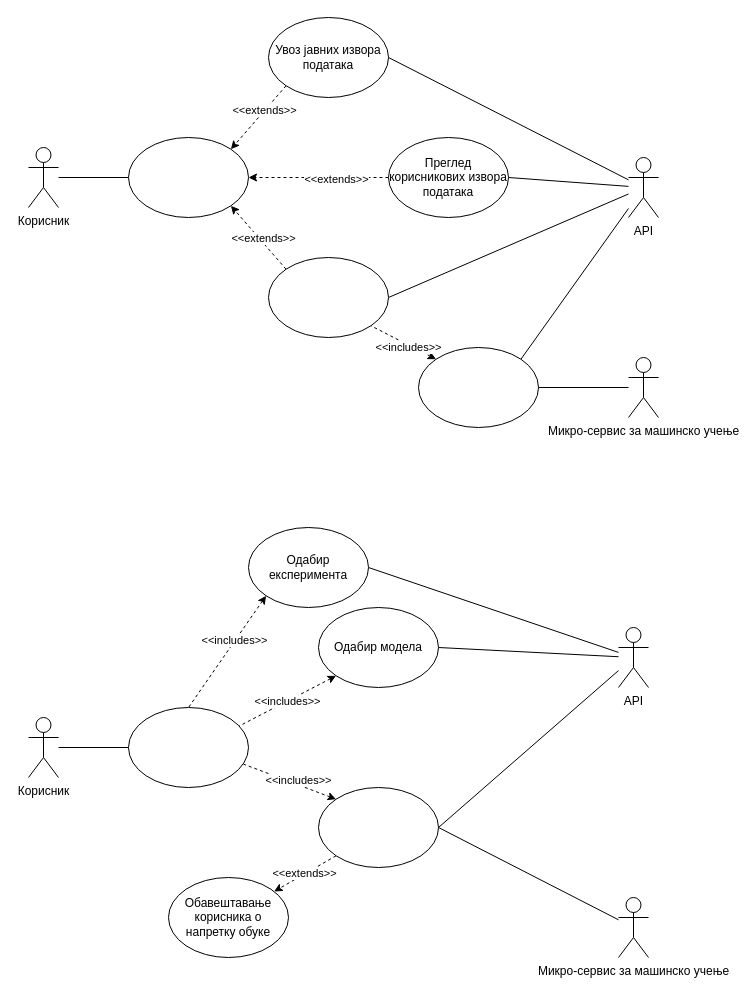
Some shapes in this 756 by 996 pixel diagram are drawn without their labels. Here are the shapes that lost their labels. From the top down, the centre of each, then its label:
At pixel 188 177: "Одабир извора података".
At pixel 328 297: "Учитавање новог извора података".
At pixel 478 387: "Пре-процесирање извора података".
At pixel 188 747: "Тренирање модела".
At pixel 378 827: "Обучавање odabranog модела за одабрани експеримент".
